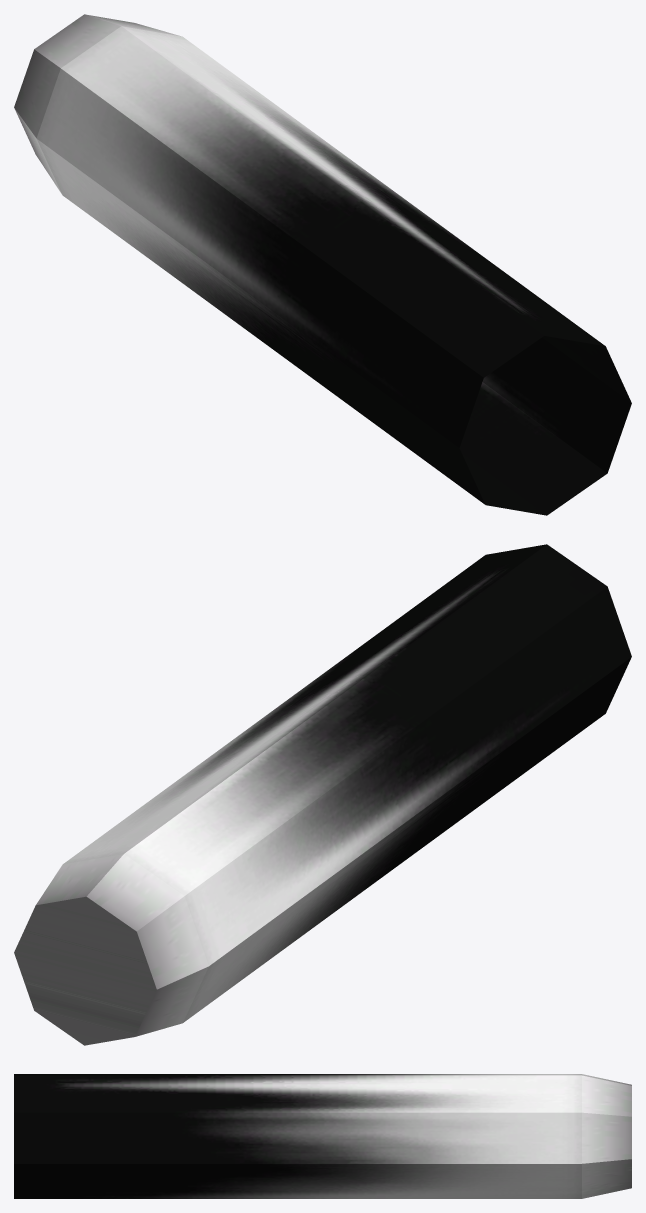
File: BulletNormal_Electric.fbx
The picture shows the model from 3 angles, top to bottom: view 1: azimuth 30°, elevation 25°; view 2: azimuth 150°, elevation 25°; view 3: azimuth 270°, elevation 25°; orthographic projection. The views are drawn at different scales.
Parts seen in each view (by area): view 1: BulletMesh; view 2: BulletMesh; view 3: BulletMesh.
Boxes of the visible parts, left/top/right/bottom form: BulletMesh: left=14, top=14, right=631, bottom=515; BulletMesh: left=14, top=544, right=631, bottom=1045; BulletMesh: left=14, top=1074, right=631, bottom=1198.
Size of the model in its own units: 0.2148 by 0.2148 by 0.9924.
